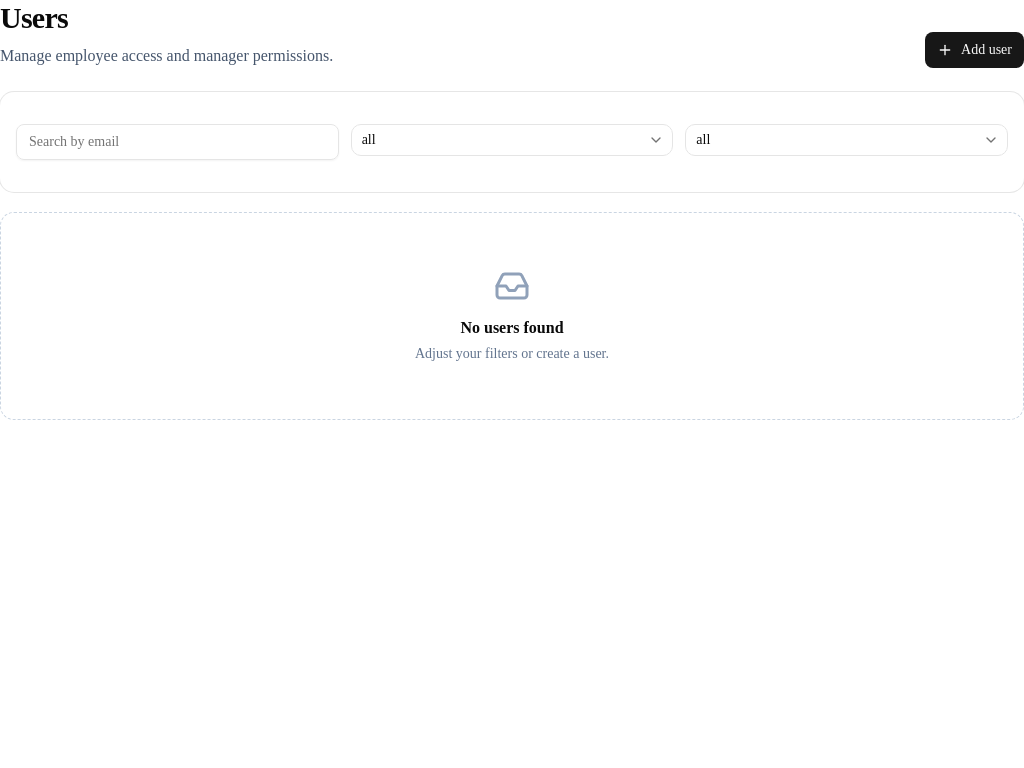
it: user form › shows the production password requirements before submitting
Step 1. Click the button "Add user" → (975, 50), box left=925, top=32, right=1023, bottom=68
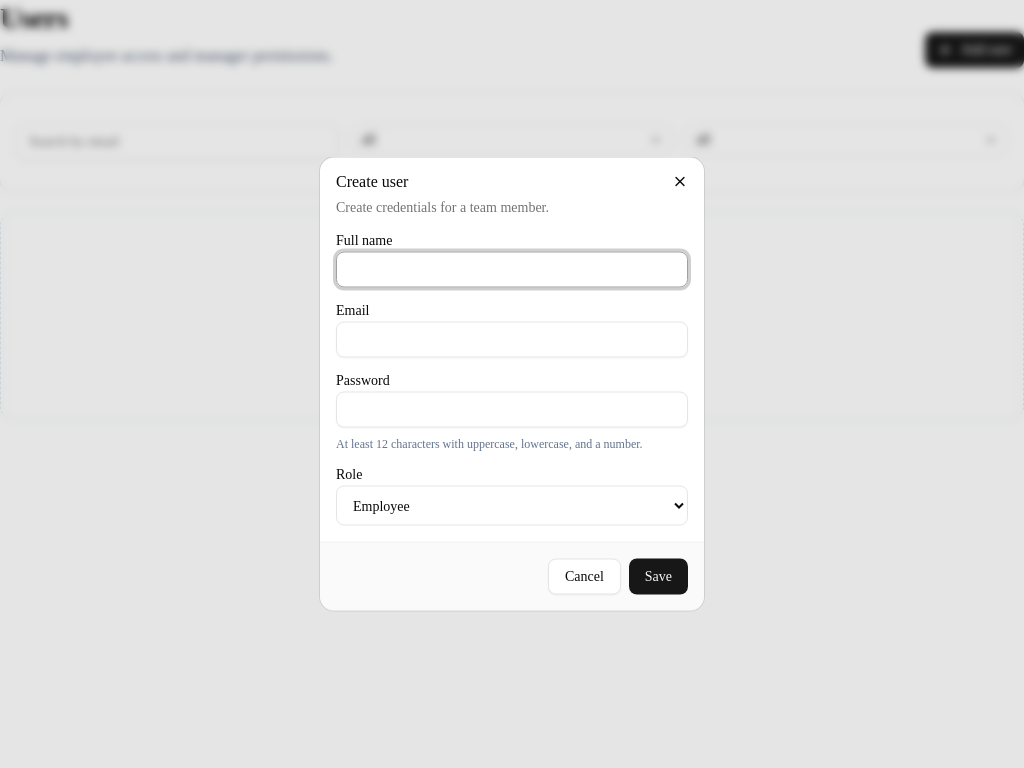
Step 2. Type "Chad Example" into the field labelled "Full name" → (512, 270), box left=336, top=252, right=688, bottom=288
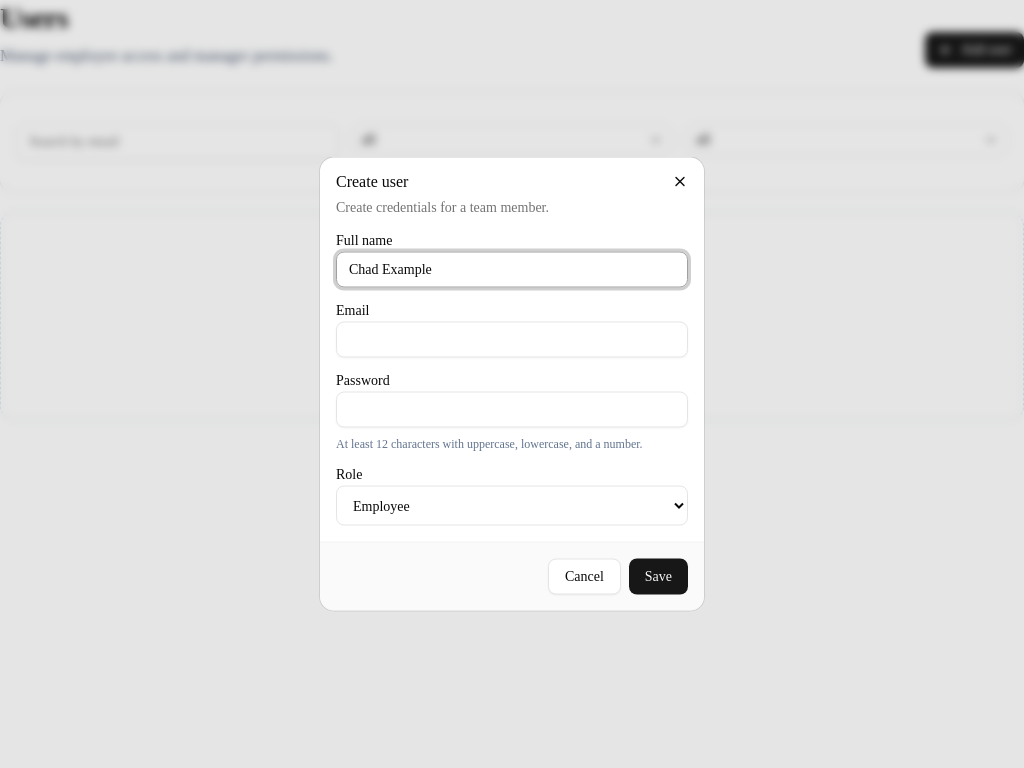
Step 3. Type "chad@example.com" into the field labelled "Email" → (512, 340), box left=336, top=322, right=688, bottom=358
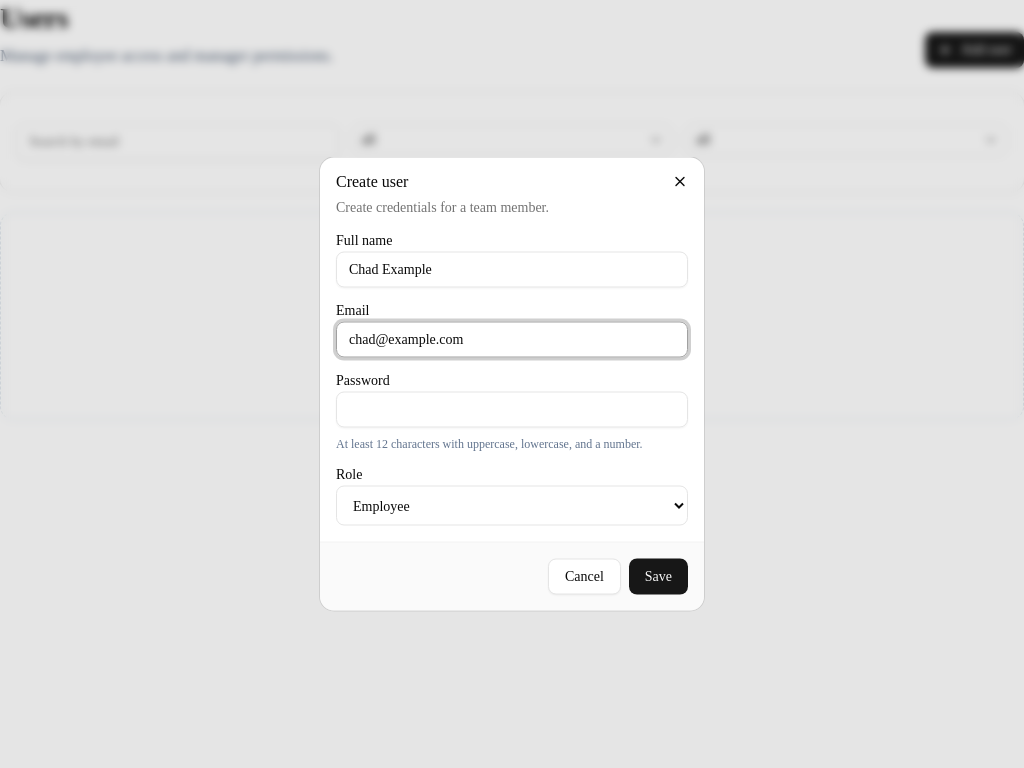
Step 4. Type "short123" into the password field labelled "Password" → (512, 410), box left=336, top=392, right=688, bottom=428
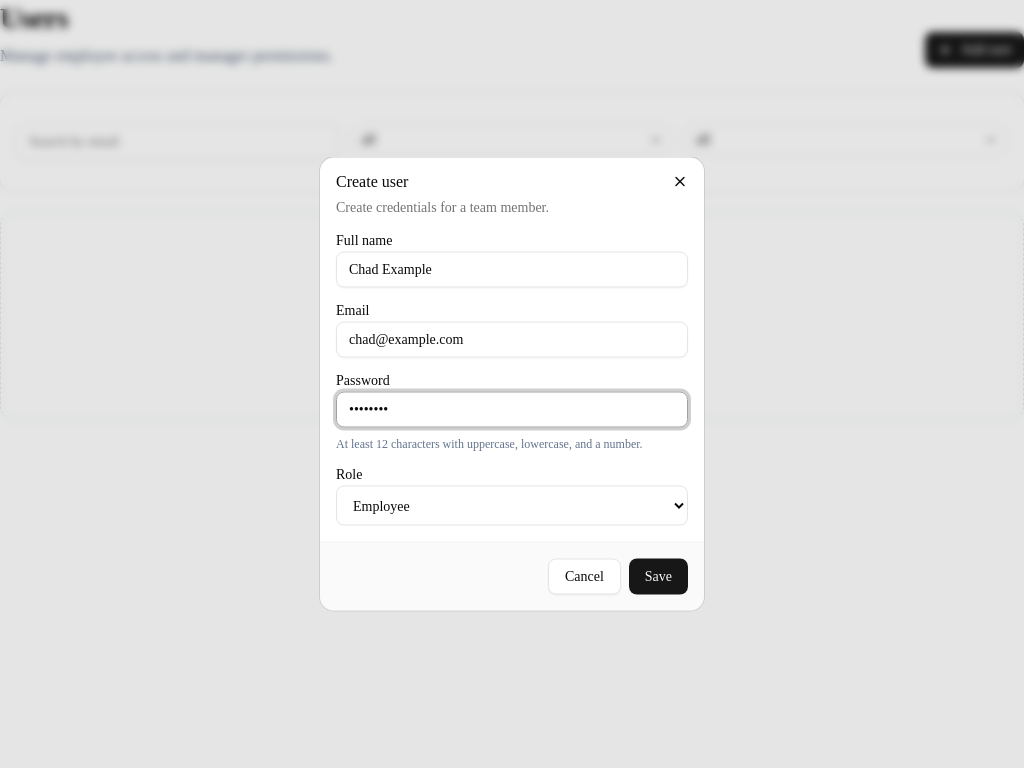
Step 5. Click the button "Save" → (658, 576), box left=629, top=558, right=688, bottom=594
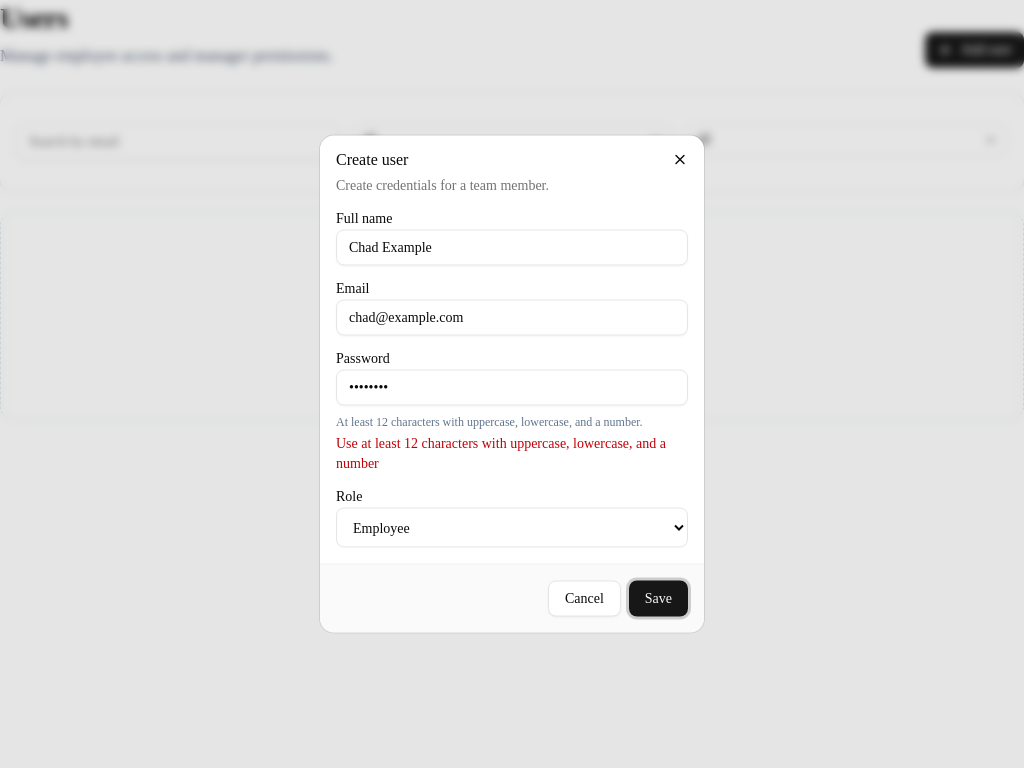
Expected: the text "Use at least 12 characters with uppercase, lowercase, and a number" is shown, left=336, top=434, right=688, bottom=474
